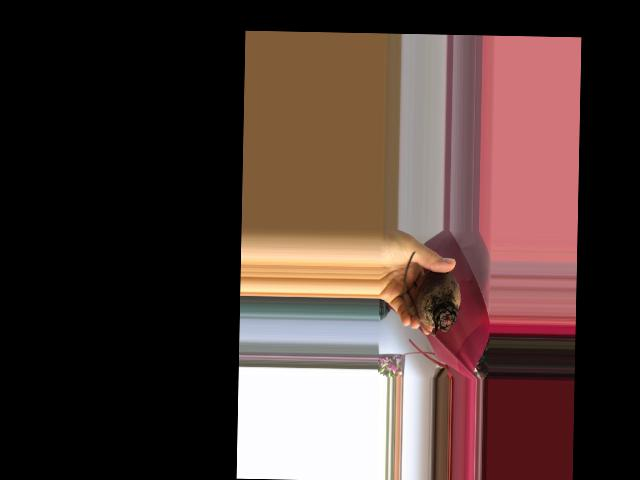beet: (402, 251, 461, 337)
